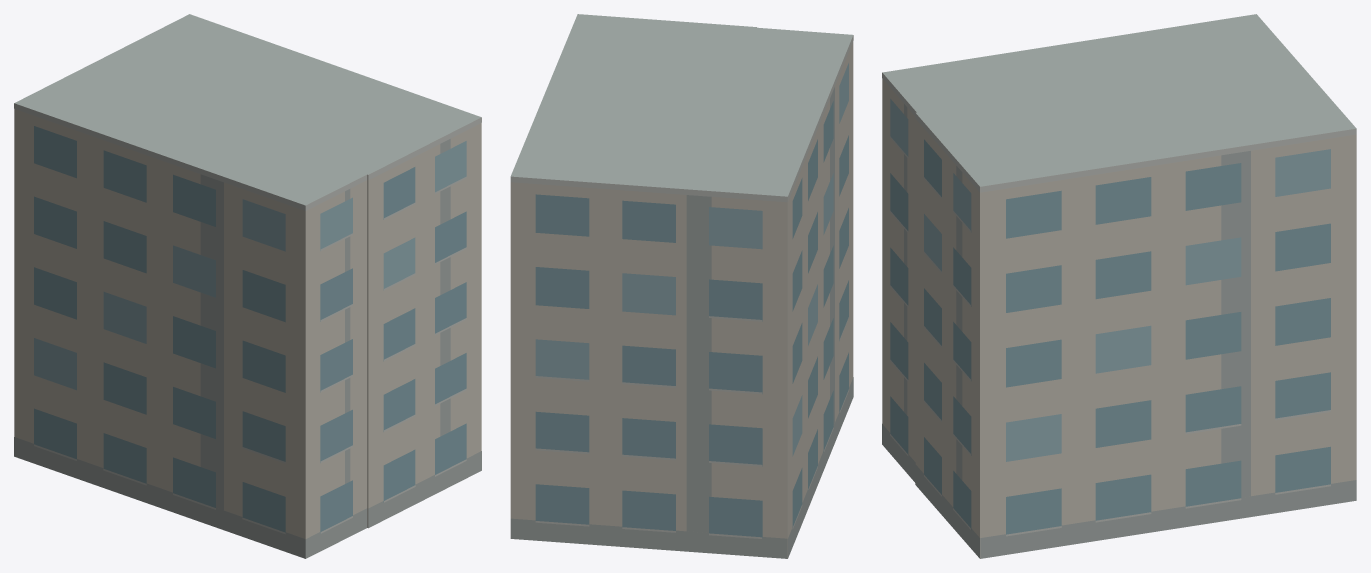
Rendered from survey-upis-32866419.glb.
The picture shows the model from 3 angles, left to right: view 1: azimuth 30°, elevation 25°; view 2: azimuth 150°, elevation 25°; view 3: azimuth 270°, elevation 25°; orthographic projection. The views are drawn at different scales.
Visible parts, largest first — view 1: survey-upis-32866419.tmp; view 2: survey-upis-32866419.tmp; view 3: survey-upis-32866419.tmp.
Boxes of the visible parts, left/top/right/bottom form: survey-upis-32866419.tmp: left=14, top=14, right=481, bottom=558; survey-upis-32866419.tmp: left=510, top=14, right=853, bottom=558; survey-upis-32866419.tmp: left=882, top=14, right=1356, bottom=558.
Size of the model in its own units: 15.58 by 15.63 by 18.07.
